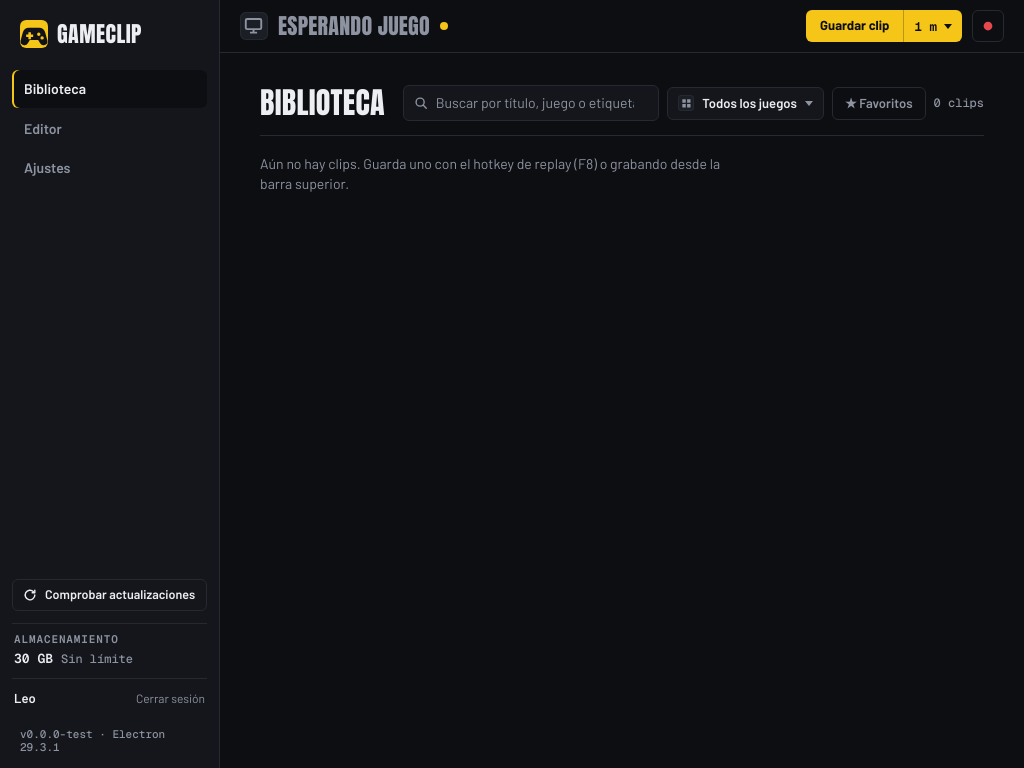
it: Ajustes — Overlay de rendimiento › explica por qué el centro no es una posición elegible
Step 1. Click the link "Ajustes" → (47, 168), box x1=24 y1=159 x2=70 y2=176
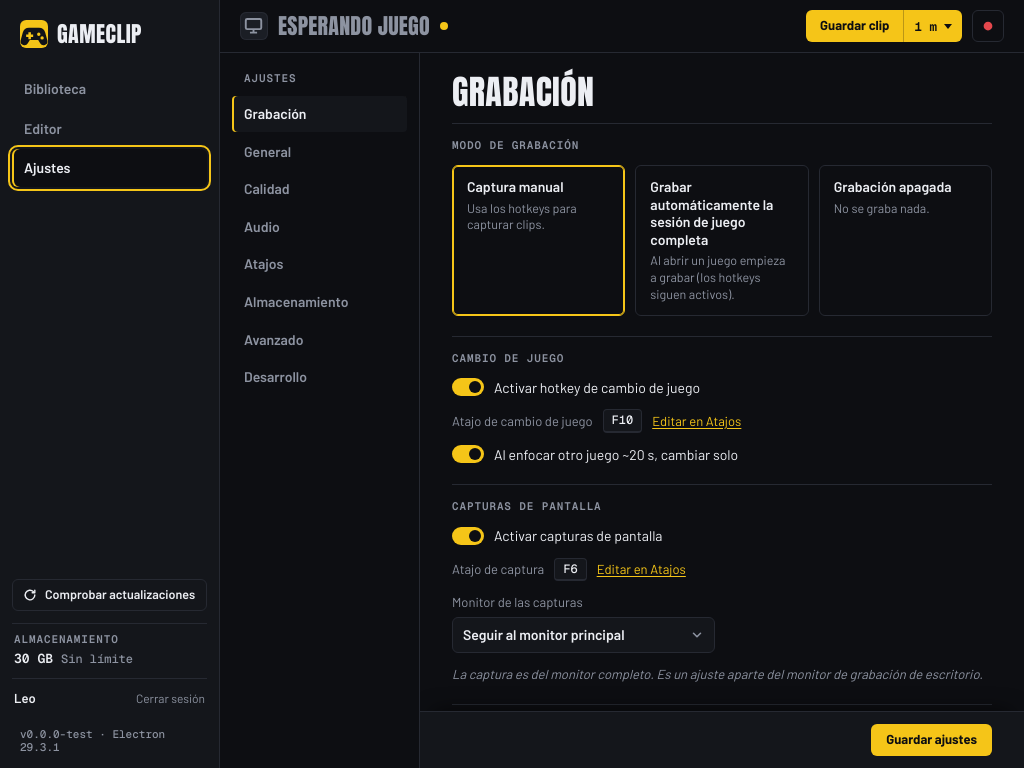
Step 2. Click the link "Avanzado" → (274, 339), box x1=244 y1=331 x2=303 y2=348
(page scrolled)
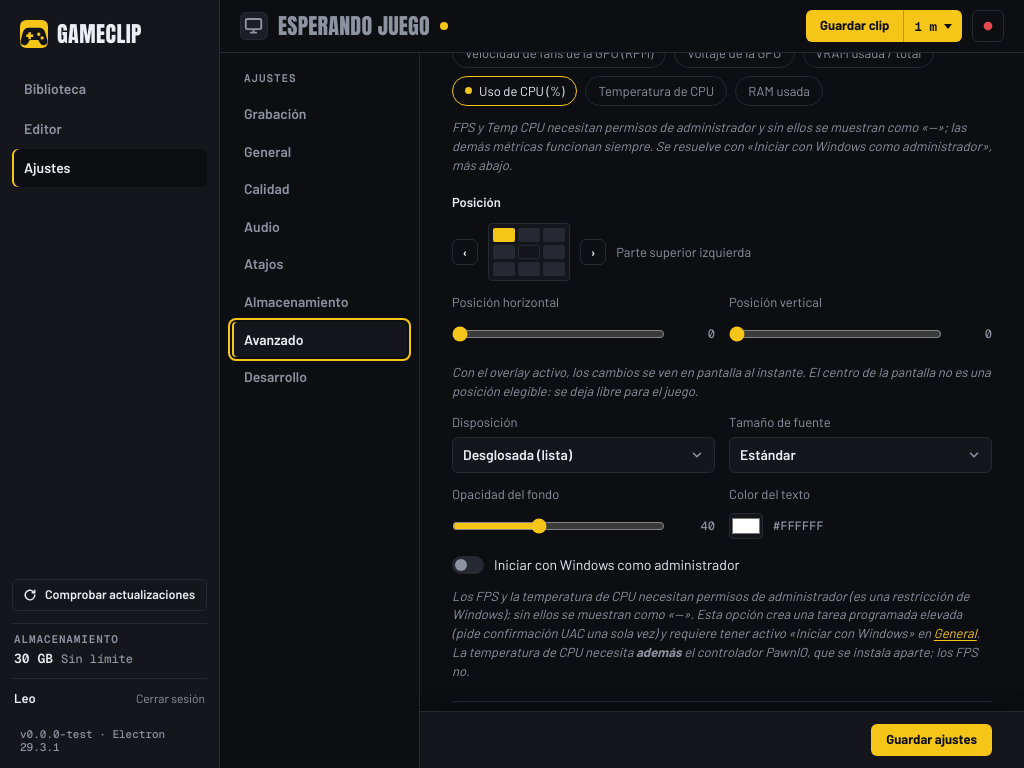
Expected: the text "los cambios se ven en pantalla al instante" shows "centro de la pantalla", x1=452 y1=364 x2=991 y2=399
Expected: the text "los cambios se ven en pantalla al instante" shows "juego", x1=452 y1=364 x2=991 y2=399
